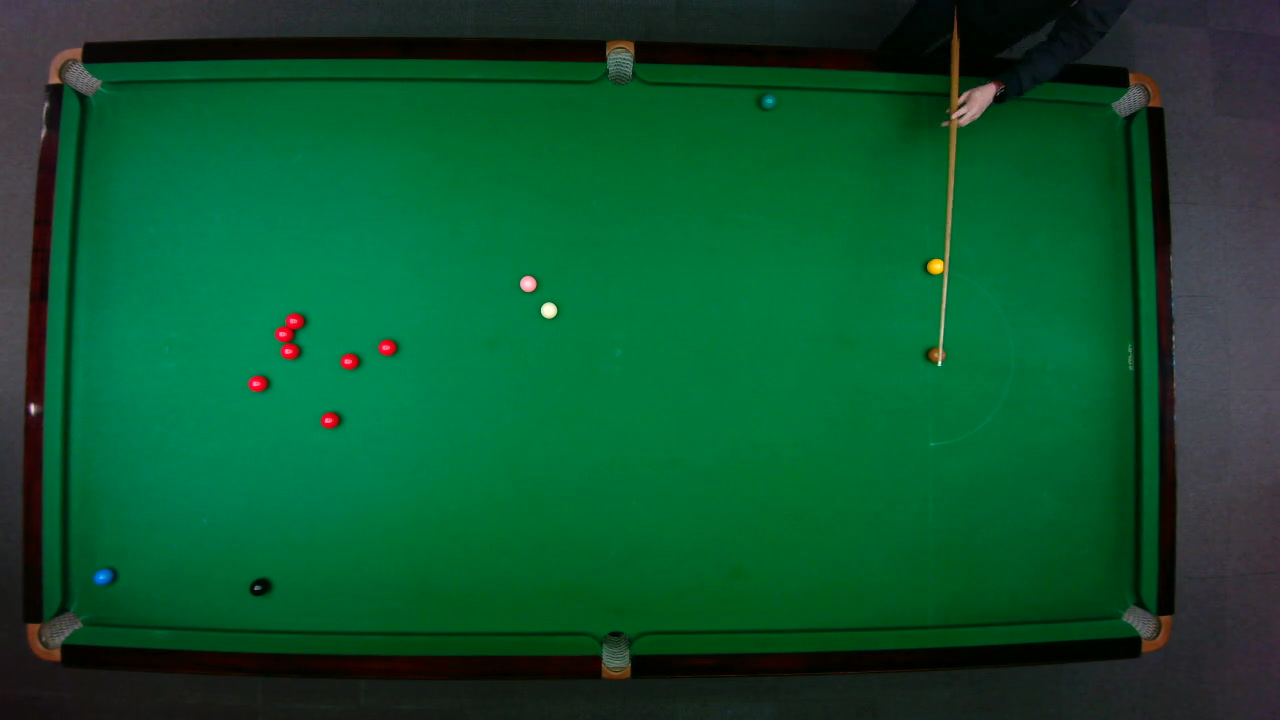bag: (25, 609, 84, 661), (45, 46, 102, 96), (1119, 603, 1172, 652), (1108, 71, 1161, 118), (600, 629, 630, 680), (605, 38, 633, 85)
black: (248, 577, 268, 596)
blue: (91, 566, 114, 585)
brown: (926, 346, 945, 363)
cue: (934, 5, 966, 372)
green: (759, 92, 776, 110)
pink: (518, 273, 537, 292)
red: (318, 410, 340, 429), (246, 373, 268, 392), (284, 311, 305, 330), (278, 342, 300, 359), (273, 324, 293, 342), (377, 338, 397, 356), (339, 352, 359, 369)
white: (538, 300, 558, 319)
yellow: (924, 256, 945, 274)
zone: (930, 269, 1013, 444)
